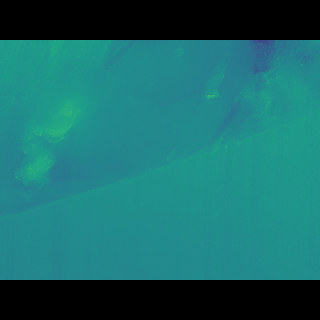Loch: (9, 72, 310, 183)
